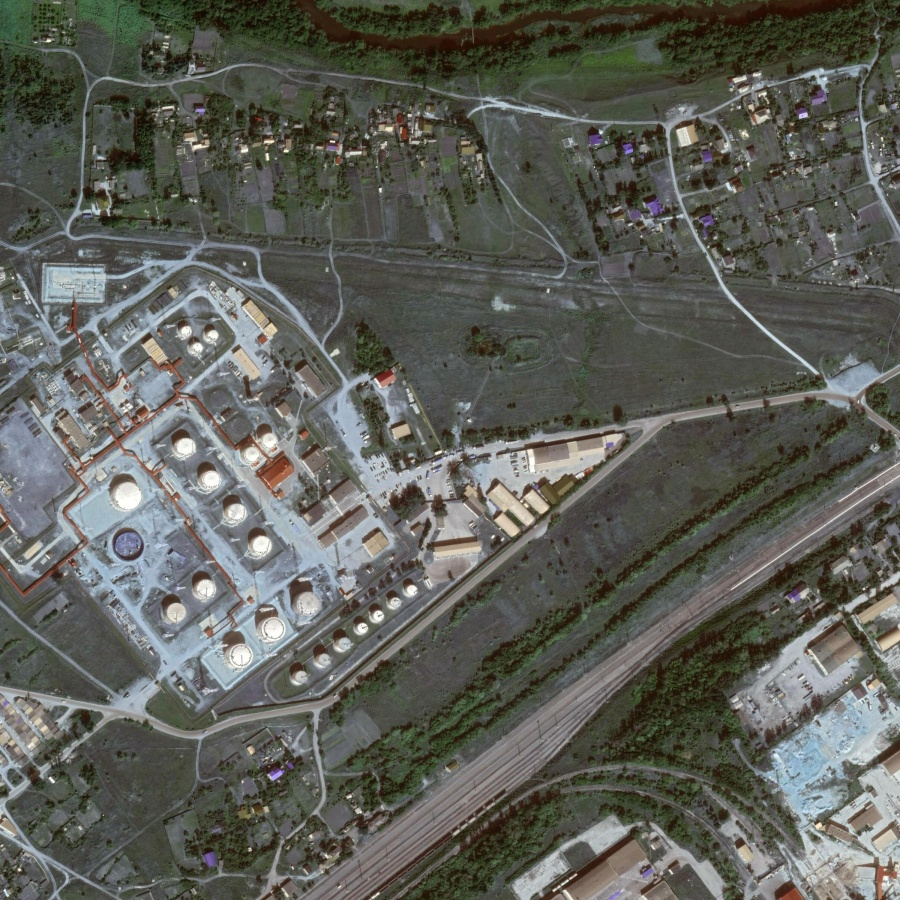PowerPlant: (111, 396, 424, 687)
